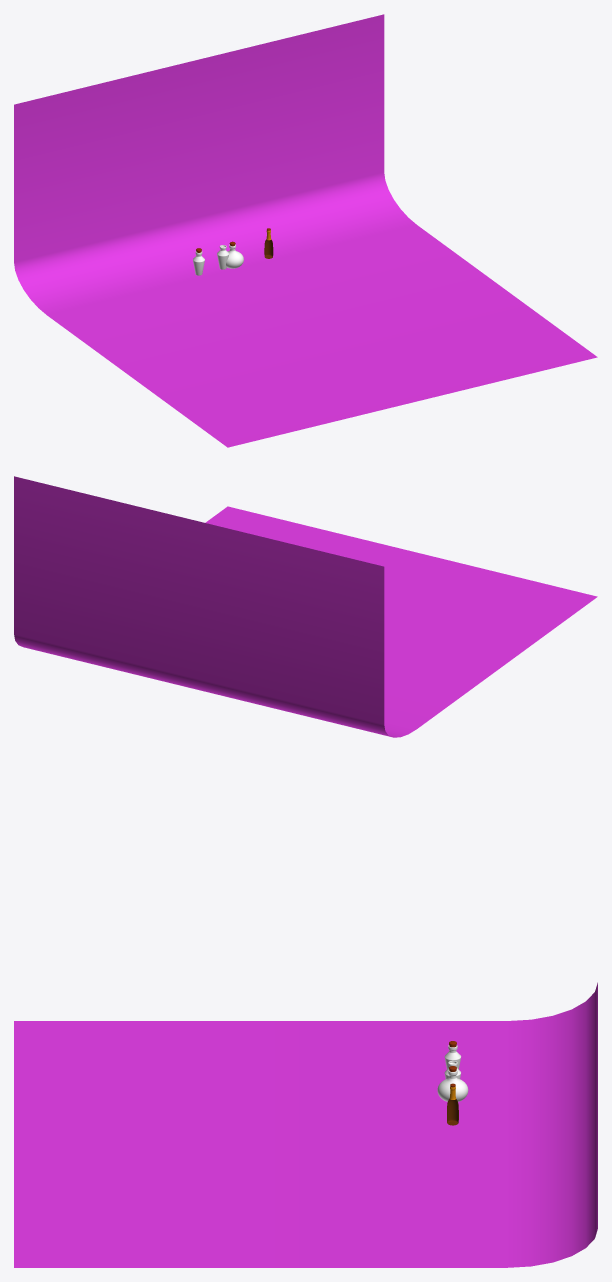
Rendered from Potions.fbx.
3 renders of one model, top to bottom at view 1: azimuth 30°, elevation 25°; view 2: azimuth 150°, elevation 25°; view 3: azimuth 270°, elevation 25°, orthographic. The views are drawn at different scales.
Parts seen in each view (by area): view 1: Cube; view 2: Cube; view 3: Cube.
Part boxes in pixels (x1,y1,x2,y2): Cube: (14, 14, 597, 447); Cube: (14, 476, 597, 737); Cube: (14, 982, 597, 1267).
Bounding box in the file's own units: 10534 × 5072 × 10534.
